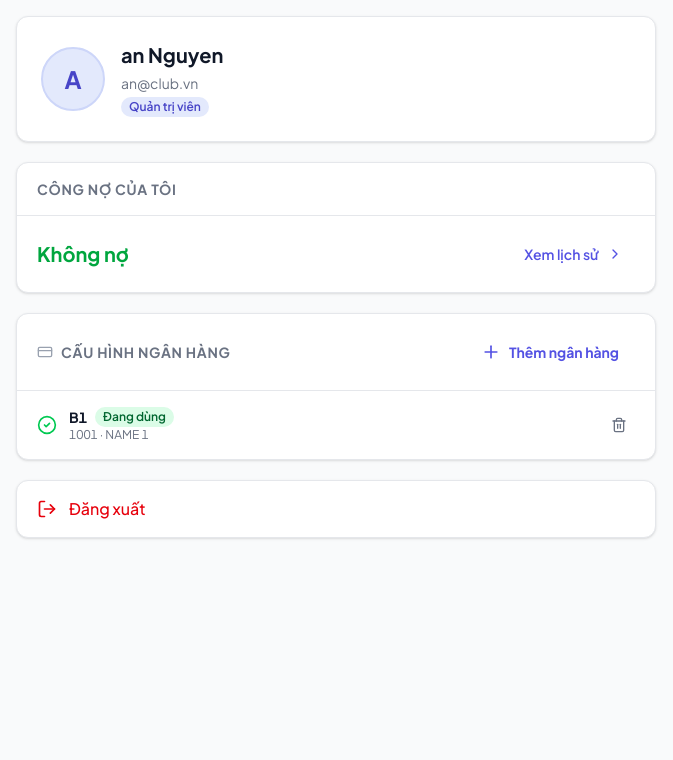
Test: ProfileView (I/O matrix) › bank form: every Form Field label is tied to its input
Click the button "Thêm ngân hàng" at (550, 352), box [465,330,635,374]
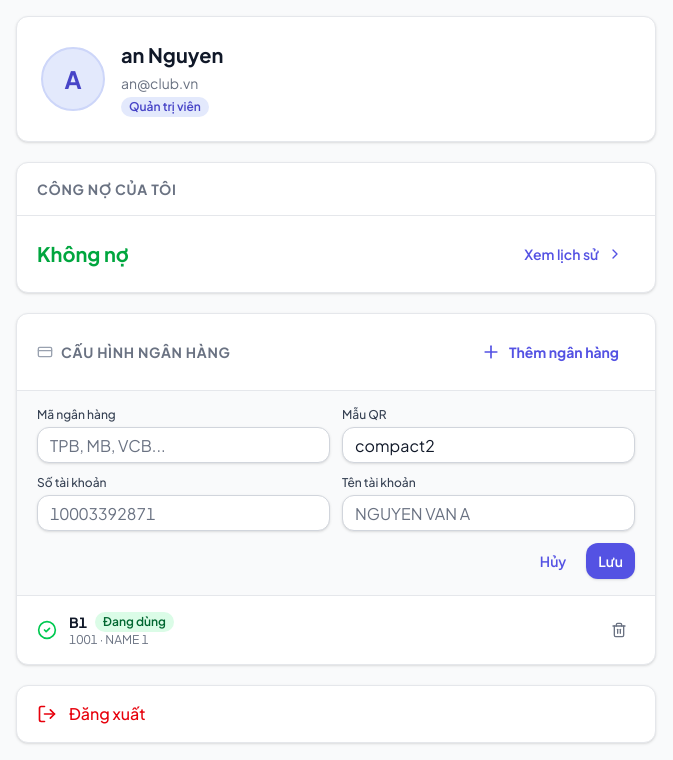
Expected: the label "Mã ngân hàng" is shown, [37,407,116,422]
Expected: the label "Mẫu QR" is shown, [342,407,386,422]
Expected: the label "Số tài khoản" is shown, [37,475,106,490]
